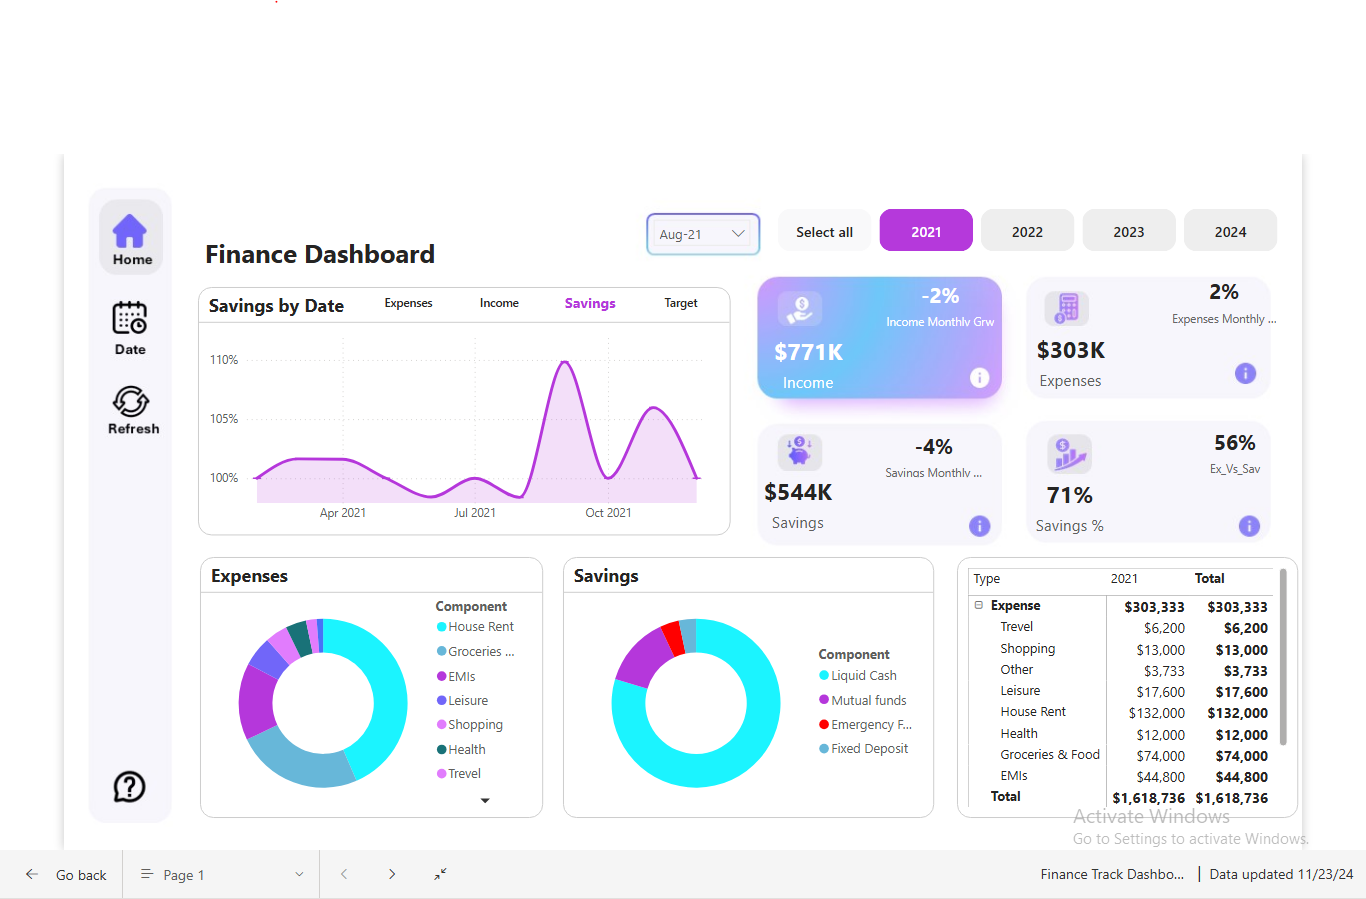

The dashboard page shown, as its layout file describes it:
{"tool":"powerbi","page":{"name":"Page 1","canvas":[1280,720],"ordinal":0},"visuals":[{"type":"card","fields":{"Values":["TransData.Income"]},"box":[720,180.7,99.8,69.4],"z":0},{"type":"card","fields":{"Values":["TransData.Savings"]},"box":[708.4,322.4,101.2,75.2],"z":1000},{"type":"card","fields":{"Values":["TransData.Expenses"]},"box":[997.6,176.4,88.2,73.7],"z":2000},{"type":"card","fields":{"Values":["TransData.Savings %"]},"box":[997.6,322.4,86.7,81],"z":3000},{"type":"advancedSlicerVisual","fields":{"Values":["Calendar.Year"]},"box":[733,52,529.2,54.9],"z":4000},{"type":"donutChart","title":"Savings","fields":{"Y":["TransData.Savings"],"Category":["TransData.Component"]},"box":[515.8,416.8,384.3,270.5],"z":5000},{"type":"donutChart","title":"Expenses ","fields":{"Category":["TransData.Component"],"Y":["TransData.Expenses"]},"box":[140.4,416.8,354.7,270.5],"z":6000},{"type":"pivotTable","fields":{"Rows":["TransData.Type","TransData.Component"],"Values":["TransData.Total Value"],"Columns":["Calendar.Year"]},"box":[923.8,416.8,353.3,270.5],"z":7000},{"type":"areaChart","fields":{"Category":["TransData.Date"],"Y":["Calendar.Line Chart Measures"]},"box":[138.8,137.3,550.8,257.3],"z":8000},{"type":"advancedSlicerVisual","fields":{"Values":["Line Selection.Type"]},"box":[308,134.5,381.7,41.9],"z":9000},{"type":"textbox","box":[140.2,70.8,254.5,56.4],"z":10000},{"type":"slicer","fields":{"Values":["Date Sumry.MonthYr"]},"box":[600,57.8,120,43.4],"z":11000},{"type":"card","fields":{"Values":["TransData.Income Monthly Grw"]},"box":[844.3,127.2,124.3,56.4],"z":12000},{"type":"card","fields":{"Values":["TransData.Expenses Monthly Grw"]},"box":[1137.8,120,124.3,63.6],"z":13000},{"type":"card","fields":{"Values":["Calendar.Savings Monthly Grw"]},"box":[841.4,283.4,117.1,56.4],"z":14000},{"type":"card","fields":{"Values":["TransData.Ex_Vs_Sav"]},"box":[1146.5,274.7,130.1,65.1],"z":15000},{"type":"actionButton","box":[29.3,137.5,76.6,83.4],"z":16000},{"type":"shape","box":[40.5,615.9,53.5,60.7],"z":17500},{"type":"actionButton","box":[29.3,234.4,78.9,60.8],"z":18000},{"type":"image","box":[0,654.9,133,41.9],"z":20000},{"type":"image","box":[37.6,594.2,56.4,52],"z":21000},{"type":"image","box":[33.3,510.4,72.3,83.9],"z":22000}]}

Visuals, with their boxes on the page's 1280x720 design canvas (x1, y1, x2, y2). These are canvas units, not pixel positions in the 1366x899 screenshot, which may show the page scaled, cropped or inside an application window:
card - TransData.Income: [720, 181, 820, 250]
card - TransData.Savings: [708, 322, 810, 398]
card - TransData.Expenses: [998, 176, 1086, 250]
card - TransData.Savings %: [998, 322, 1084, 403]
advancedSlicerVisual - Calendar.Year: [733, 52, 1262, 107]
"Savings" donutChart: [516, 417, 900, 687]
"Expenses " donutChart: [140, 417, 495, 687]
pivotTable - TransData.Type x TransData.Component: [924, 417, 1277, 687]
areaChart - TransData.Date x Calendar.Line Chart Measures: [139, 137, 690, 395]
advancedSlicerVisual - Line Selection.Type: [308, 134, 690, 176]
textbox: [140, 71, 395, 127]
slicer - Date Sumry.MonthYr: [600, 58, 720, 101]
card - TransData.Income Monthly Grw: [844, 127, 969, 184]
card - TransData.Expenses Monthly Grw: [1138, 120, 1262, 184]
card - Calendar.Savings Monthly Grw: [841, 283, 958, 340]
card - TransData.Ex_Vs_Sav: [1146, 275, 1277, 340]
actionButton: [29, 138, 106, 221]
shape: [40, 616, 94, 677]
actionButton: [29, 234, 108, 295]
image: [0, 655, 133, 697]
image: [38, 594, 94, 646]
image: [33, 510, 106, 594]
